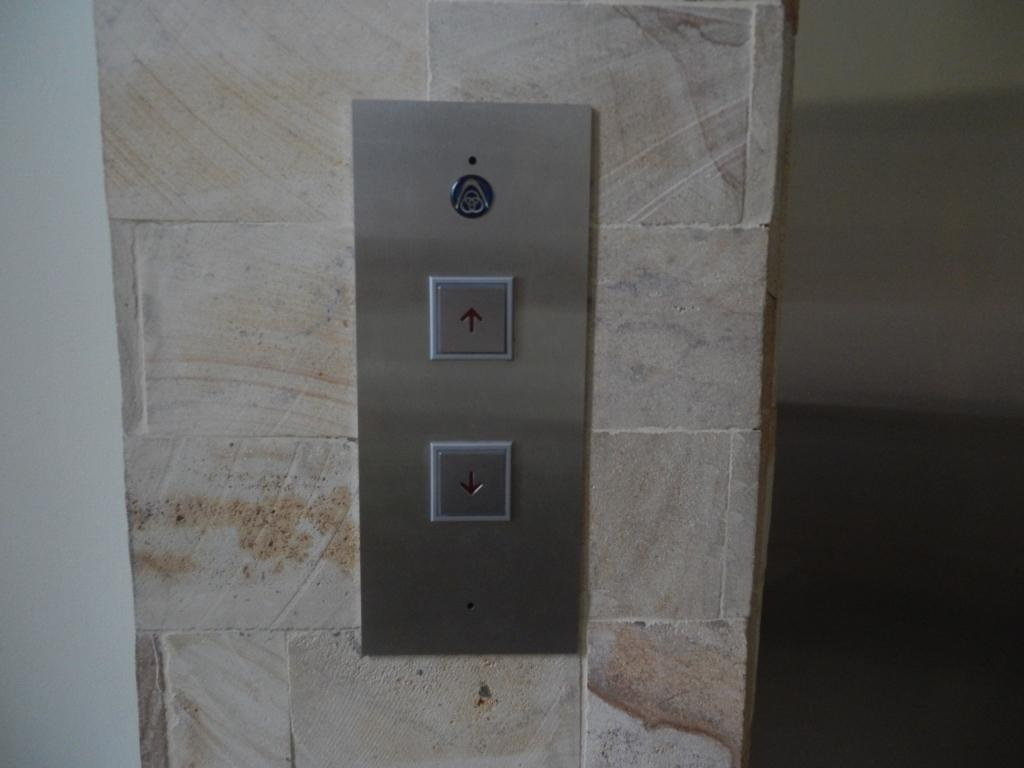down: (428, 442, 514, 522)
up: (426, 272, 515, 360)
